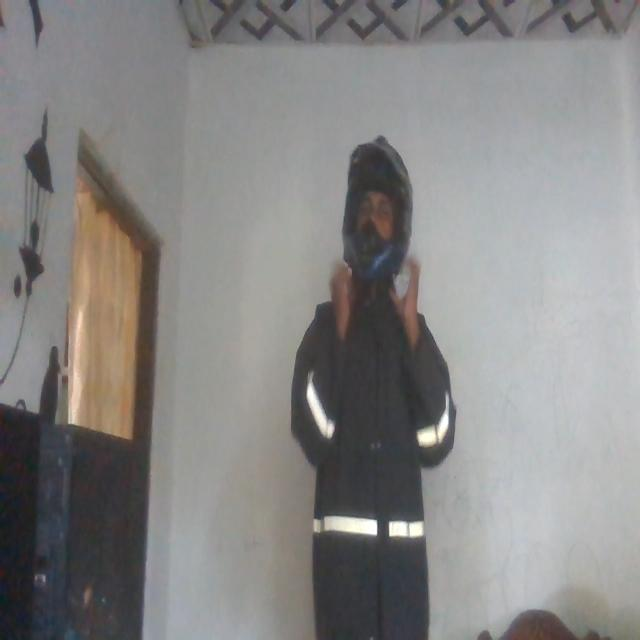Helmet_Wearer: (337, 140, 409, 298)
Jacket_Wearer: (291, 272, 454, 640)
Person: (293, 130, 451, 640)
